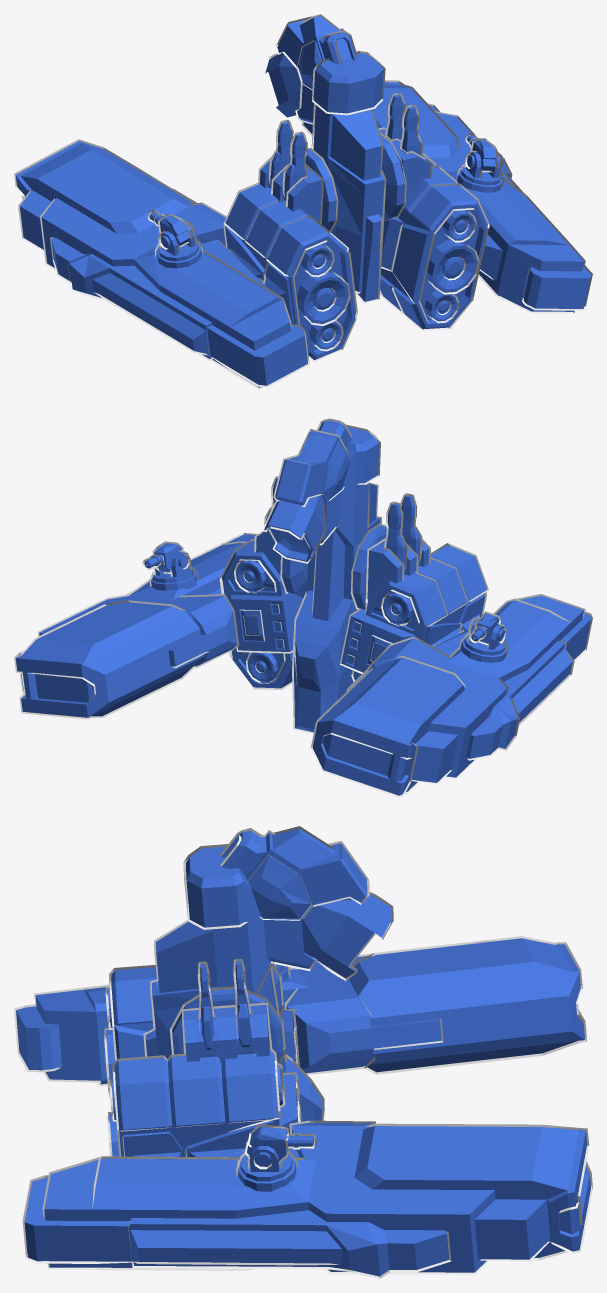
Rendered from ship_unlit.glb.
3 views of the same model, one above another, from view 1: azimuth 30°, elevation 25°; view 2: azimuth 150°, elevation 25°; view 3: azimuth 270°, elevation 25° (orthographic). The views are drawn at different scales.
Parts seen in each view (by area): view 1: ME_ship_IndexedFaceSet; view 2: ME_ship_IndexedFaceSet; view 3: ME_ship_IndexedFaceSet.
Part boxes in pixels (x1,y1,x2,y2): ME_ship_IndexedFaceSet: (14, 14, 592, 389); ME_ship_IndexedFaceSet: (14, 418, 592, 797); ME_ship_IndexedFaceSet: (14, 826, 592, 1278).
Bounding box in the file's own units: 397 × 258 × 352.
